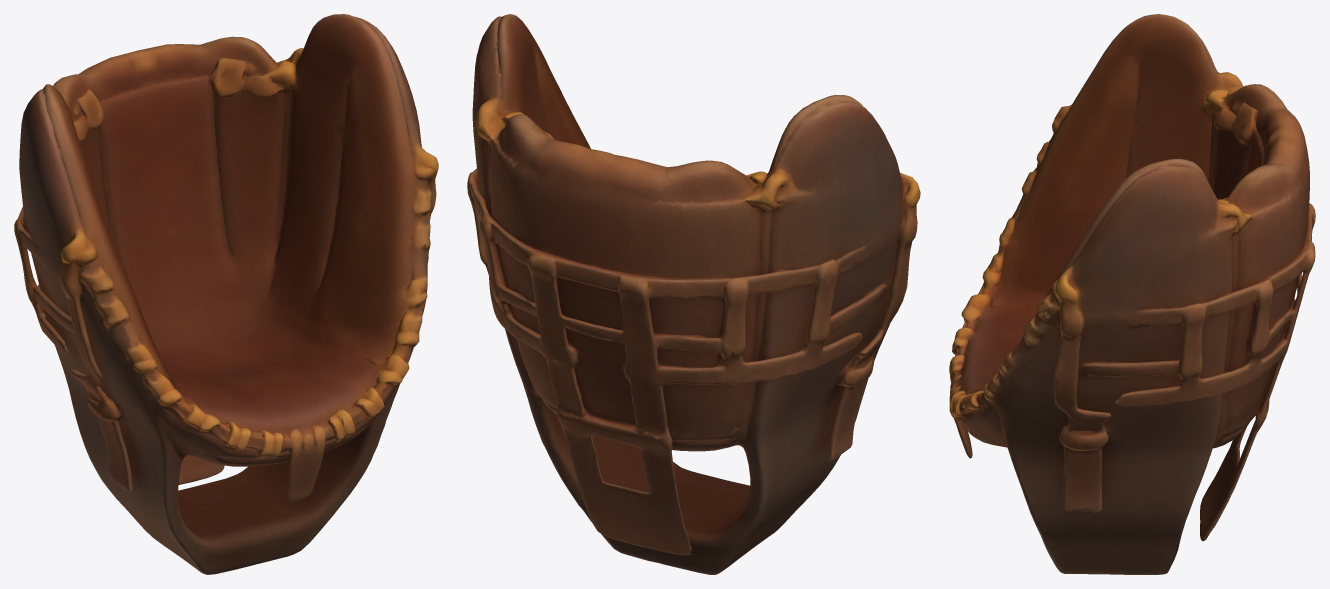
The model's file is glove.glb.
The picture shows the model from 3 angles, left to right: view 1: azimuth 30°, elevation 25°; view 2: azimuth 150°, elevation 25°; view 3: azimuth 270°, elevation 25°; orthographic projection. The views are drawn at different scales.
Visible parts, largest first — view 1: Mesh; view 2: Mesh; view 3: Mesh.
Part boxes in pixels (x1,y1,x2,y2): Mesh: (14,14,438,574); Mesh: (467,14,920,574); Mesh: (949,14,1315,574).
Size of the model in its own units: 1.56 by 1.9 by 1.35.
1 material, 1 textured.
